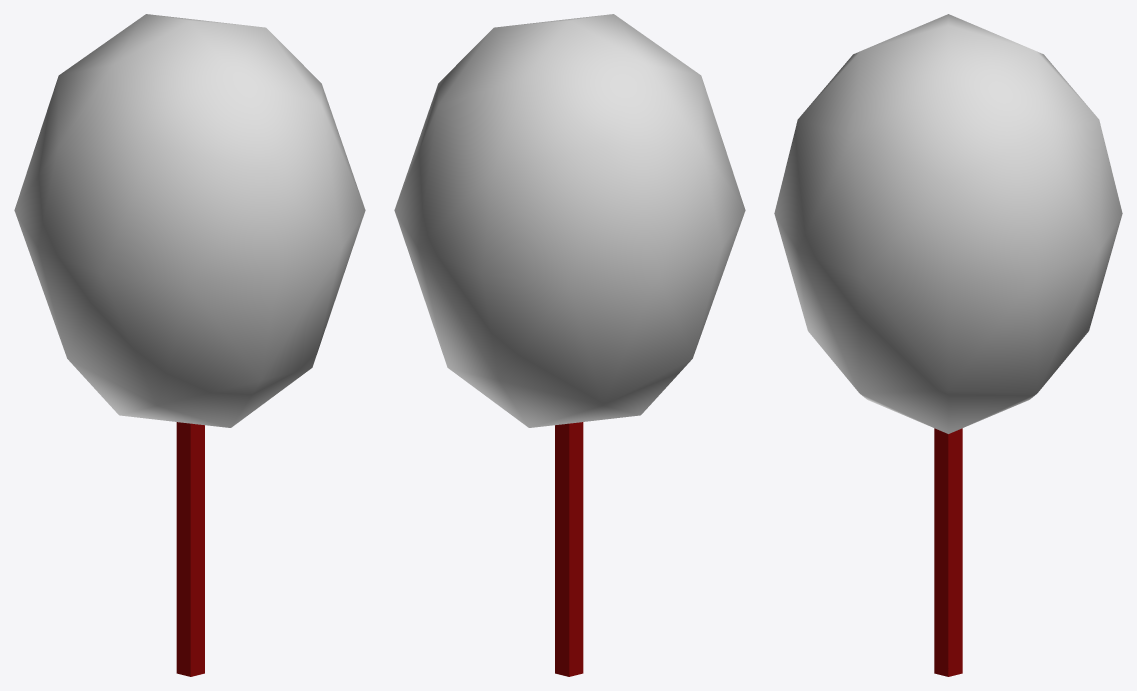
Rendered from SM_SmallMaple.fbx.
The picture shows the model from 3 angles, left to right: view 1: azimuth 30°, elevation 25°; view 2: azimuth 150°, elevation 25°; view 3: azimuth 270°, elevation 25°; orthographic projection.
Parts seen in each view (by area): view 1: Small_Leaf_Maple, Small_Truck_Maple; view 2: Small_Leaf_Maple, Small_Truck_Maple; view 3: Small_Leaf_Maple, Small_Truck_Maple.
Boxes of the visible parts, x1,y1,x2,y2 form: Small_Leaf_Maple: [14, 14, 365, 427]; Small_Truck_Maple: [176, 422, 204, 676]; Small_Leaf_Maple: [394, 14, 745, 427]; Small_Truck_Maple: [555, 422, 583, 676]; Small_Leaf_Maple: [774, 14, 1122, 433]; Small_Truck_Maple: [934, 428, 962, 676].
Size of the model in its own units: 32.17 by 65.64 by 32.17.
